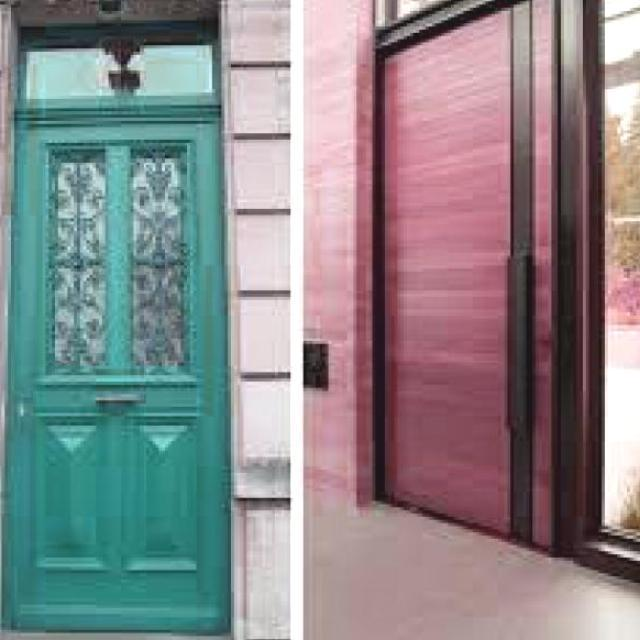door: (353, 2, 563, 577), (11, 111, 231, 639)
